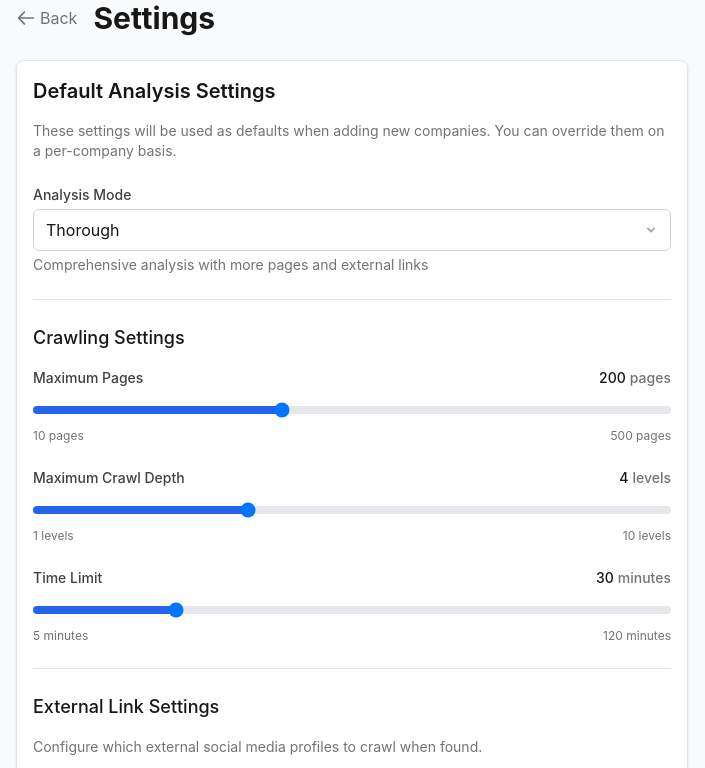
Test: TestModePresets (UI-08) › Quick mode disables social link following
This screenshot has width=705, height=768.
# Select Quick mode
Select "Quick" in the dropdown labelled "Analysis Mode" at point(352, 230), box [33, 209, 671, 251]
(page scrolled)
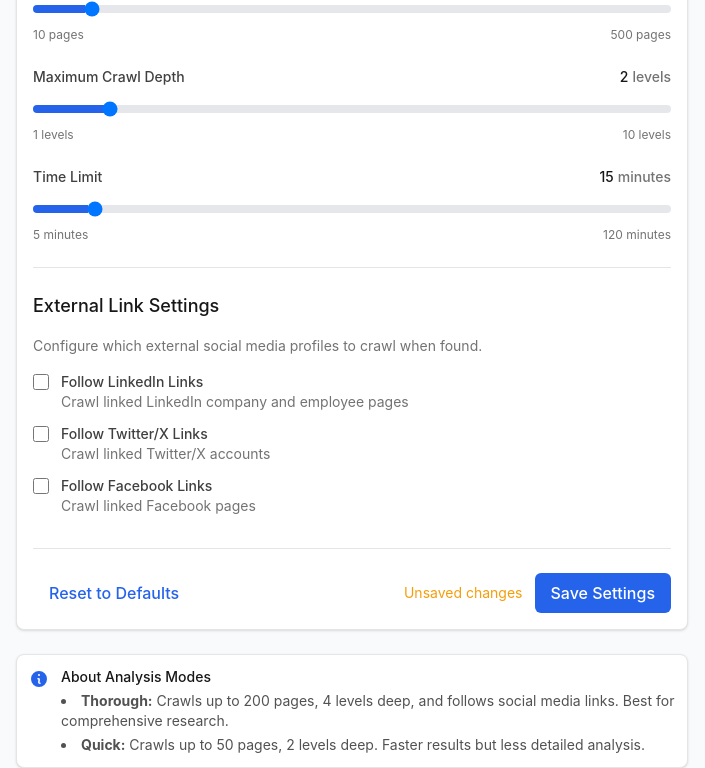
Expected: the checkbox labelled "Follow LinkedIn Links" is not checked, [33, 374, 49, 390]
Expected: the checkbox labelled "Follow Twitter/X Links" is not checked, [33, 426, 49, 442]
Expected: the checkbox labelled "Follow Facebook Links" is not checked, [33, 478, 49, 494]
